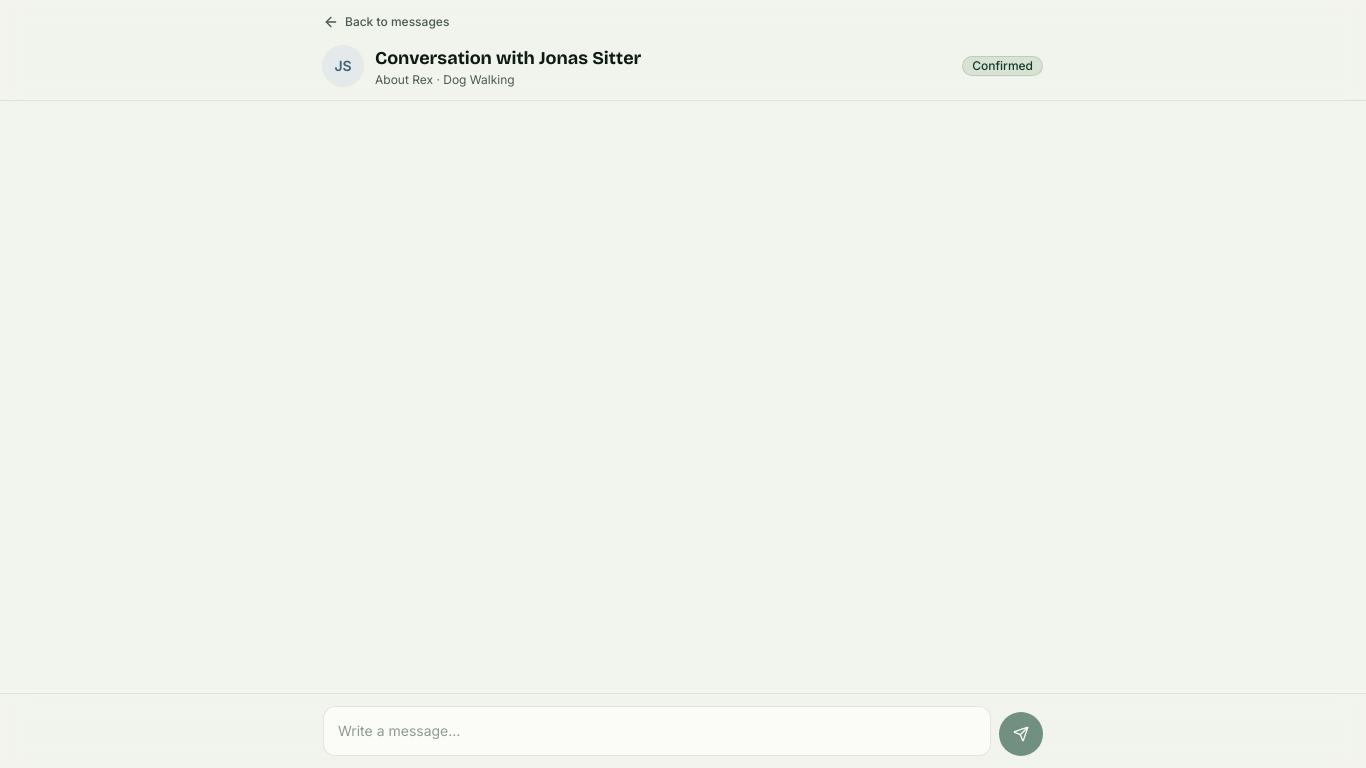
Test case: sending › keeps newly typed text rather than clobbering it with the failed draft
The width and height of the screenshot is (1366, 768).
Type "first" into the text box at (657, 731), box [323,706,991,756]
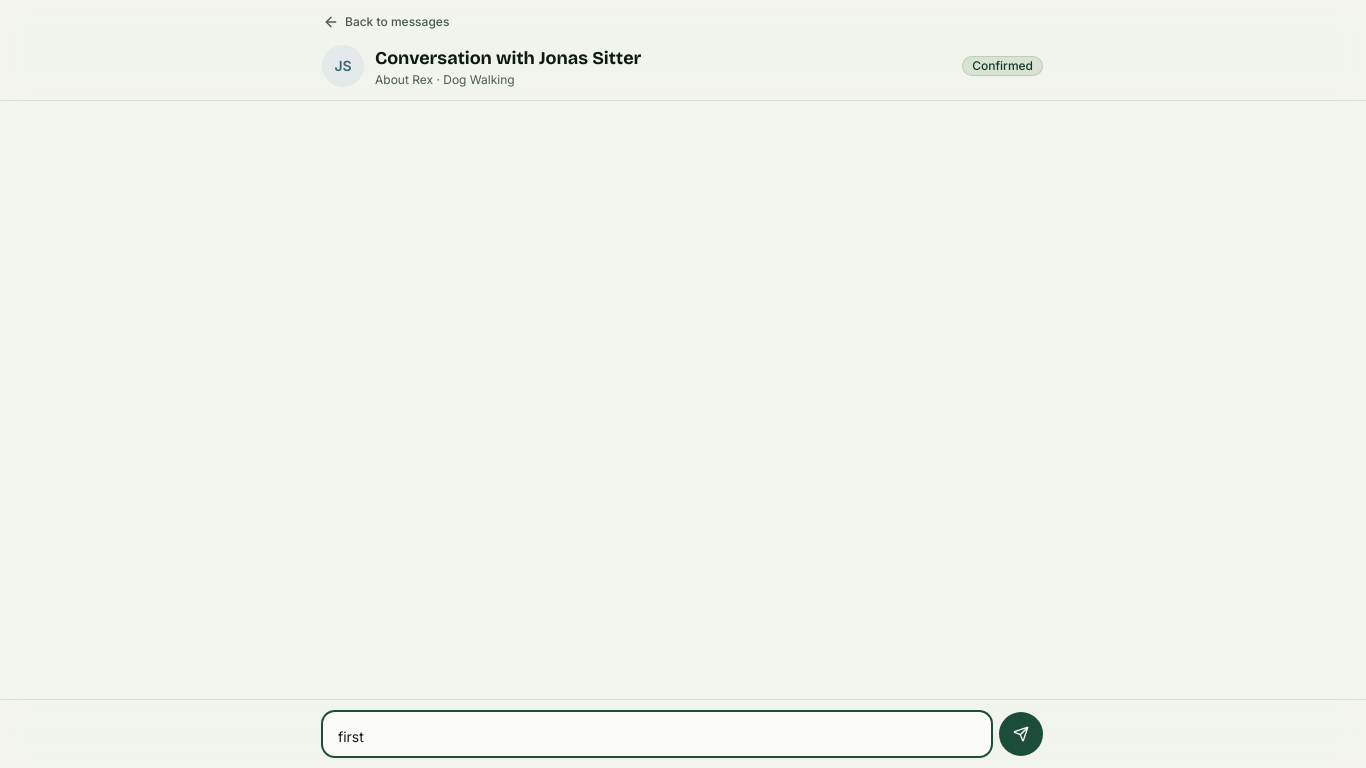
Click the button named "send" at (1021, 734), box [999,712,1043,756]
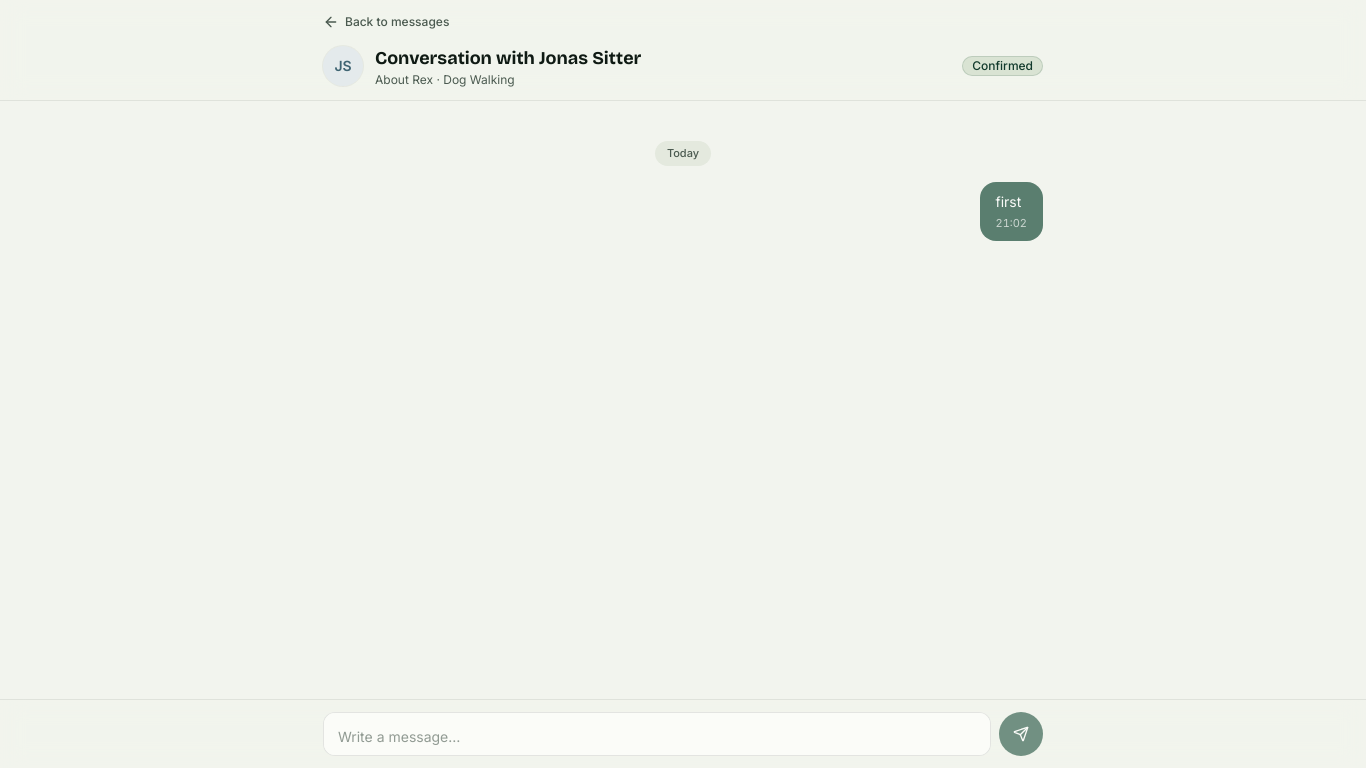
Expected: the text box is empty
Type "second" into the text box at (657, 734), box [323,712,991,756]
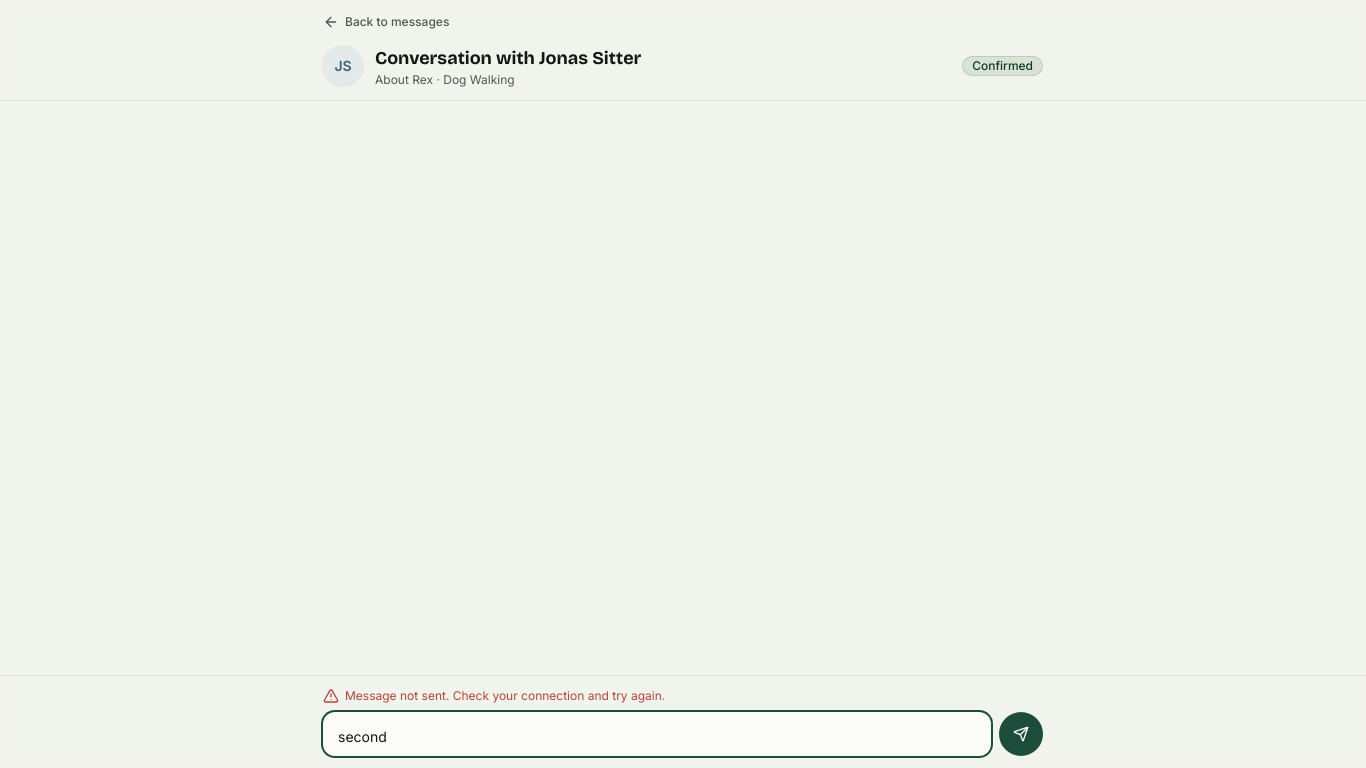
Expected: the text "Message not sent. Check your connection and try again." is shown, [323,688,665,704]
